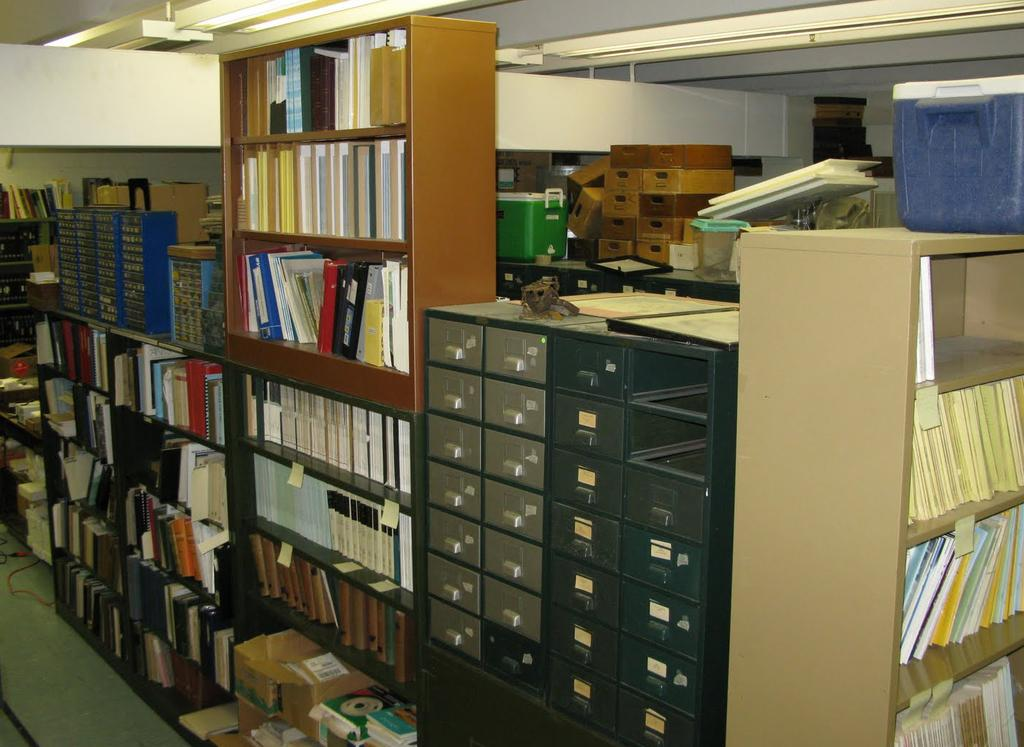cabinet_door: (558, 452, 620, 514), (630, 480, 694, 536), (486, 335, 550, 386), (628, 658, 697, 702), (482, 436, 548, 482), (564, 518, 619, 570), (563, 579, 621, 628), (630, 544, 694, 588), (632, 600, 690, 647), (488, 536, 542, 586), (556, 680, 614, 726), (562, 405, 618, 452), (430, 376, 486, 418), (564, 634, 622, 674), (557, 361, 621, 397), (626, 715, 698, 747), (493, 394, 552, 432), (488, 496, 548, 533), (435, 516, 483, 562), (486, 592, 538, 634), (430, 568, 484, 606), (491, 648, 552, 681), (436, 477, 490, 514), (434, 612, 480, 654), (434, 327, 482, 365), (436, 428, 486, 464)
handle: (652, 564, 678, 596), (567, 586, 599, 609), (504, 350, 534, 373), (577, 365, 609, 386), (499, 458, 523, 486), (640, 672, 670, 694), (572, 426, 601, 448), (566, 533, 596, 554), (570, 641, 596, 665), (440, 438, 466, 462), (573, 478, 600, 501), (648, 614, 674, 635), (438, 342, 468, 360), (650, 510, 676, 530), (442, 579, 460, 607), (502, 557, 522, 582), (442, 488, 466, 508), (498, 609, 524, 627), (502, 508, 520, 534), (442, 393, 466, 412), (503, 652, 523, 674), (503, 404, 523, 426), (441, 632, 465, 650), (444, 534, 461, 558), (572, 696, 594, 714), (642, 735, 670, 747)
